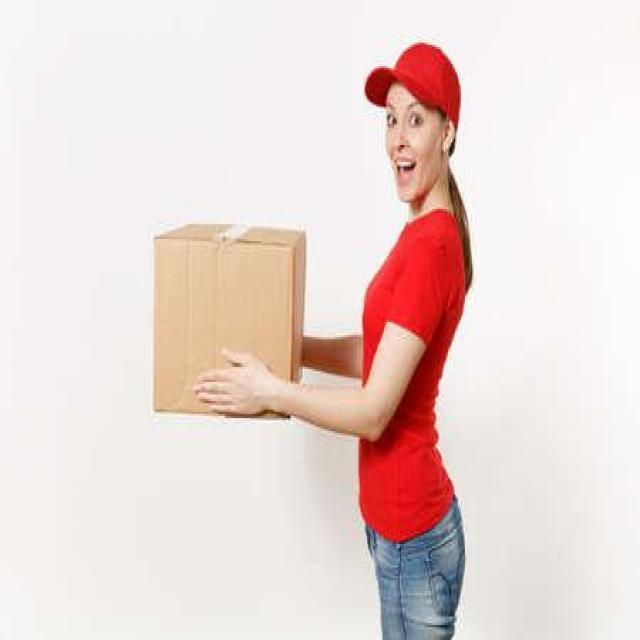box: (152, 214, 312, 429)
